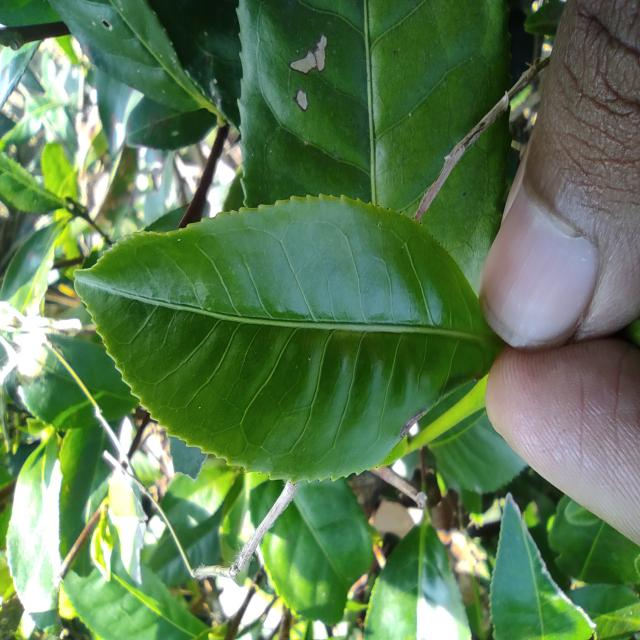Category C(4-7 days): (49, 177, 530, 497)
